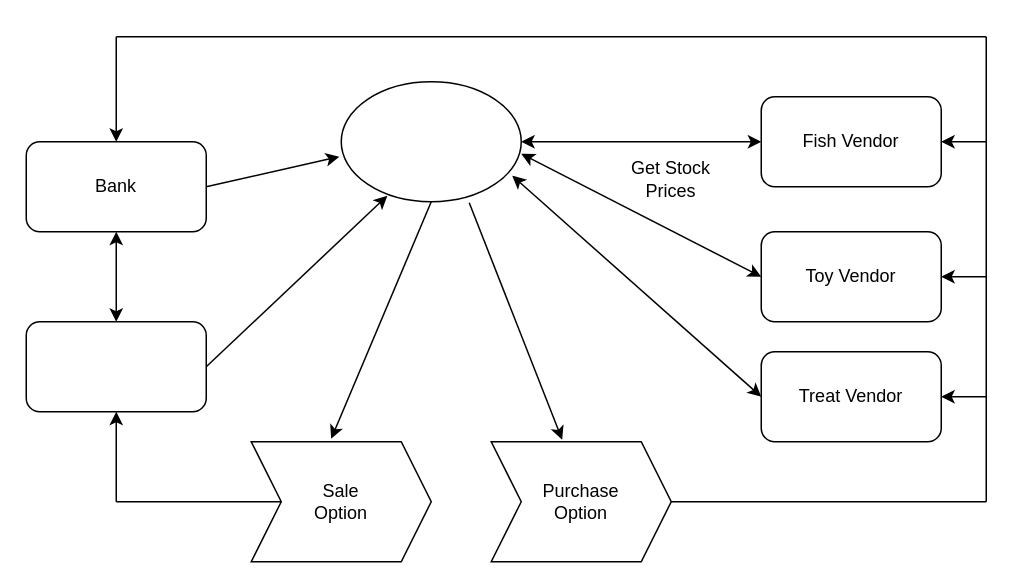
The diagram is 1025 pixels wide and 588 high, and some of its shapes have lost their labels. The box of each missing label's shape, as (x1, y1, x2, y2) in pixels:
GUI Main: (340, 80, 521, 202)
Personal Stocks: (25, 320, 206, 412)
